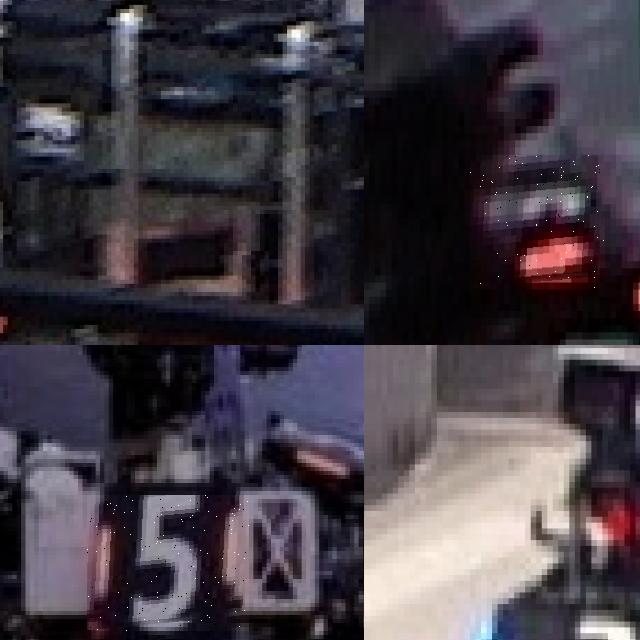B3: (459, 598, 640, 640)
R3: (470, 155, 605, 289)
R5: (87, 495, 249, 631)
